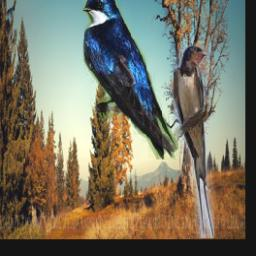Swallow: (81, 0, 177, 160), (174, 45, 214, 238)
